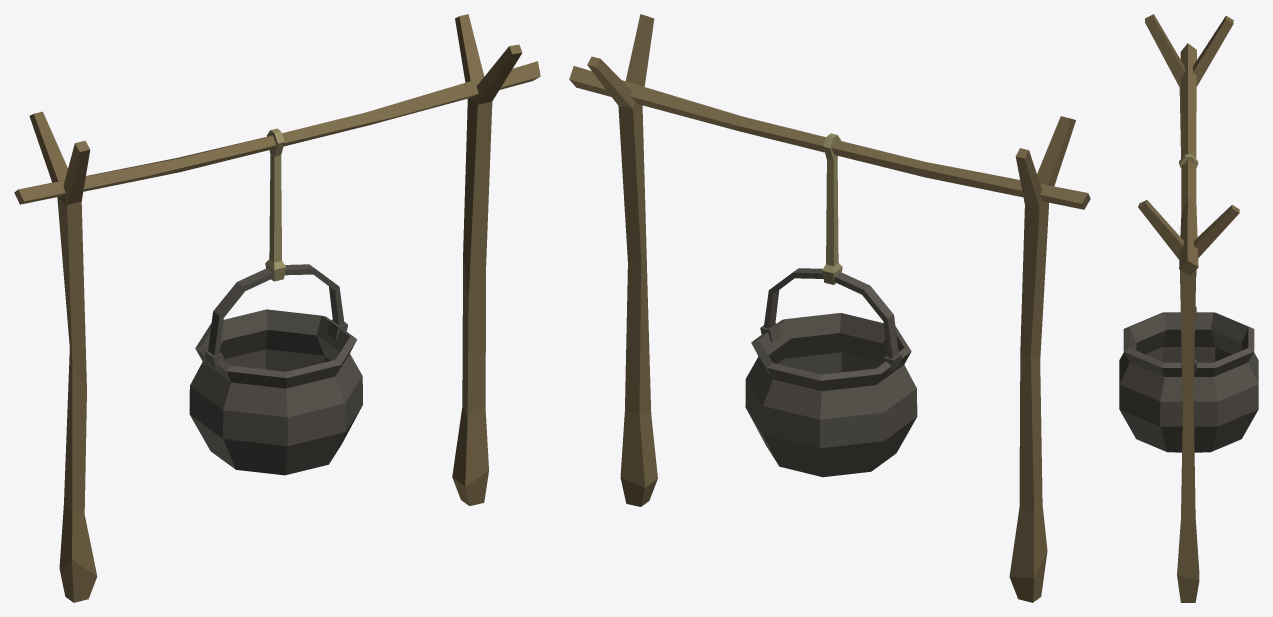
File: CampfireBoiler.fbx
3 views of the same model, side by side, from view 1: azimuth 30°, elevation 25°; view 2: azimuth 150°, elevation 25°; view 3: azimuth 270°, elevation 25° (orthographic). The views are drawn at different scales.
Visible parts, largest first — view 1: CampfireBoiler; view 2: CampfireBoiler; view 3: CampfireBoiler.
Part boxes in pixels (x1,y1,x2,y2): CampfireBoiler: (14, 14, 540, 602); CampfireBoiler: (569, 14, 1090, 602); CampfireBoiler: (1119, 14, 1258, 602).
Bounding box in the file's own units: 248 × 217 × 66.81.
